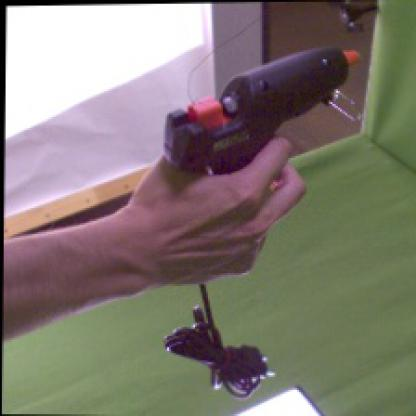Hand: (124, 133, 309, 286)
